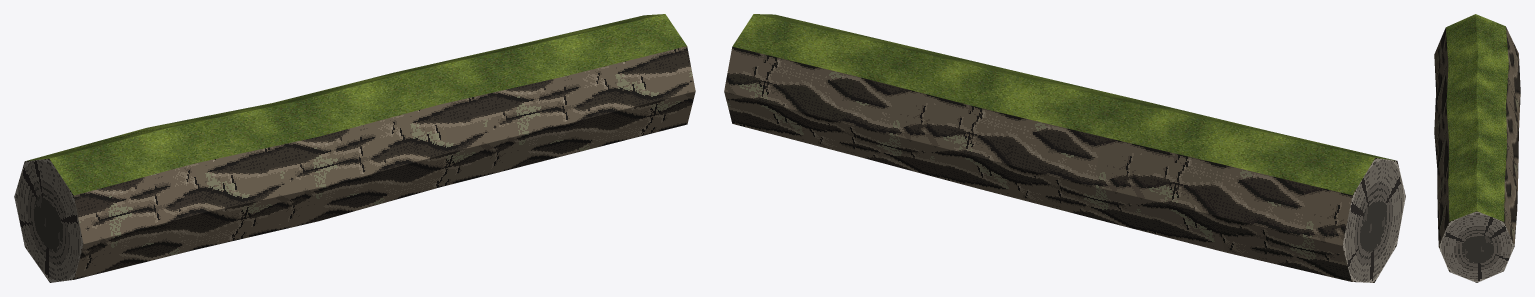
File: LOG_Mossy_01.glb
3 renders of one model, left to right at view 1: azimuth 30°, elevation 25°; view 2: azimuth 150°, elevation 25°; view 3: azimuth 270°, elevation 25°, orthographic. The views are drawn at different scales.
Parts seen in each view (by area): view 1: LOG_Mossy_01; view 2: LOG_Mossy_01; view 3: LOG_Mossy_01.
Part boxes in pixels (bbox=[...]): LOG_Mossy_01: bbox=[14, 14, 695, 282]; LOG_Mossy_01: bbox=[724, 14, 1405, 282]; LOG_Mossy_01: bbox=[1434, 14, 1520, 282].
Size of the model in its own units: 3.01 by 0.5787 by 0.5685.
Materials: 3 (3 with a texture image).
